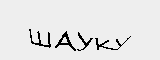А: (52, 29, 77, 53)
К: (94, 37, 116, 54)
У: (111, 34, 133, 54), (75, 30, 93, 54)
Ш: (27, 27, 52, 50)
